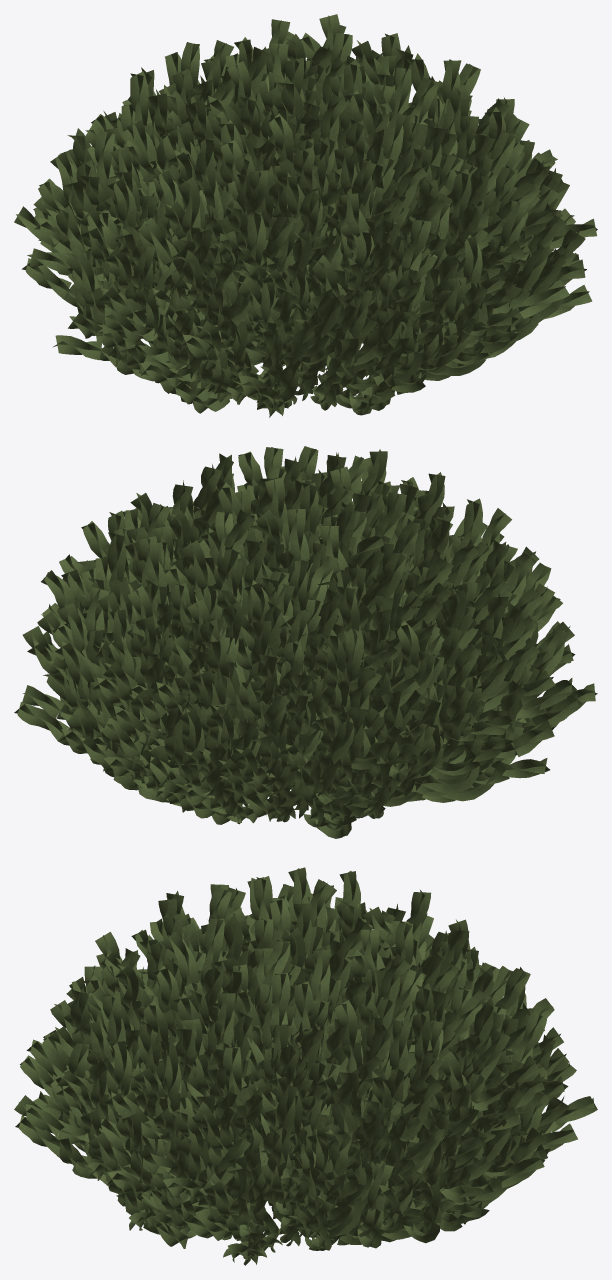
The model's file is Artemisia_Californica_01_1.fbx.
3 renders of one model, top to bottom at view 1: azimuth 30°, elevation 25°; view 2: azimuth 150°, elevation 25°; view 3: azimuth 270°, elevation 25°, orthographic.
Visible parts, largest first — view 1: Artemisia_californica_A001; view 2: Artemisia_californica_A001; view 3: Artemisia_californica_A001.
Boxes of the visible parts, x1,y1,x2,y2 form: Artemisia_californica_A001: [14, 14, 597, 417]; Artemisia_californica_A001: [14, 446, 597, 838]; Artemisia_californica_A001: [14, 867, 597, 1265].
Bounding box in the file's own units: 165 × 98.27 × 170.
2 materials, 2 textured.
